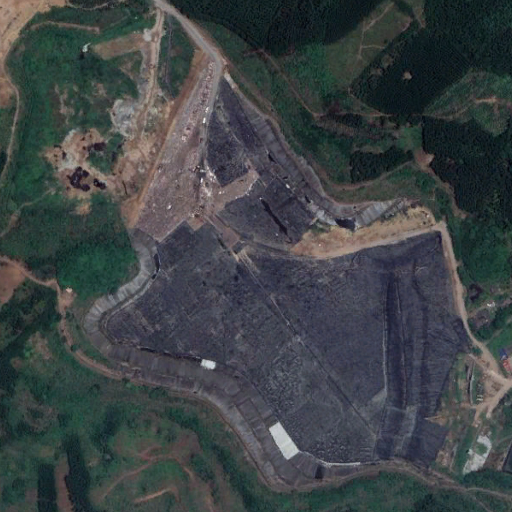lf: (83, 60, 482, 487)
